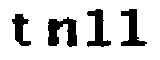1: (116, 2, 151, 51), (84, 6, 114, 51)
n: (43, 17, 80, 50)
t: (7, 8, 34, 49)
